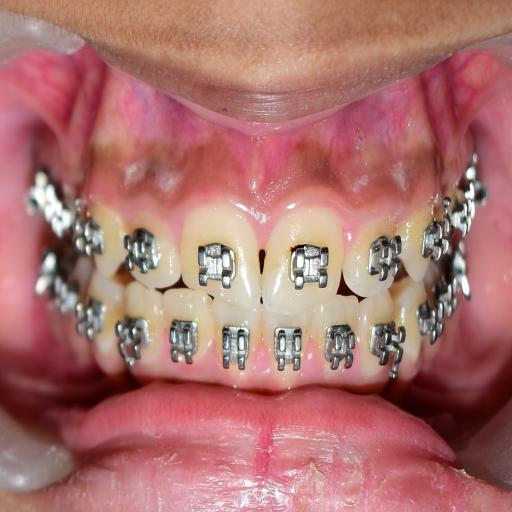correct_brace: (285, 237, 332, 294), (194, 242, 239, 291), (124, 229, 164, 278), (364, 232, 401, 283)
incorrect_brace: (121, 192, 181, 291), (348, 195, 402, 302)
